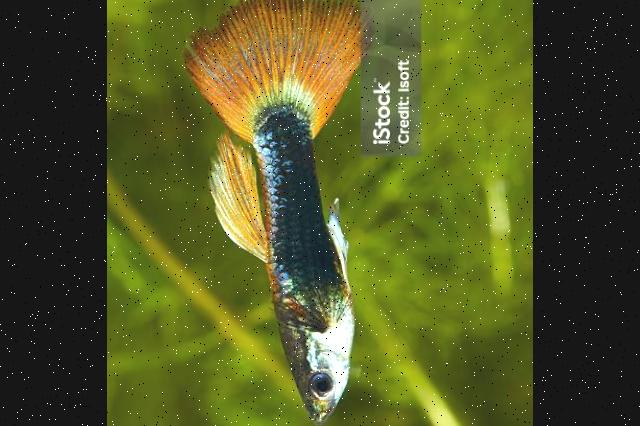Mulut: (295, 387, 349, 426)
Sirip Dada: (262, 271, 370, 359)
Sirip Ekor: (182, 0, 384, 141)
Sirip Perut: (317, 172, 363, 277)
Sirip Punggung: (201, 126, 277, 272)
